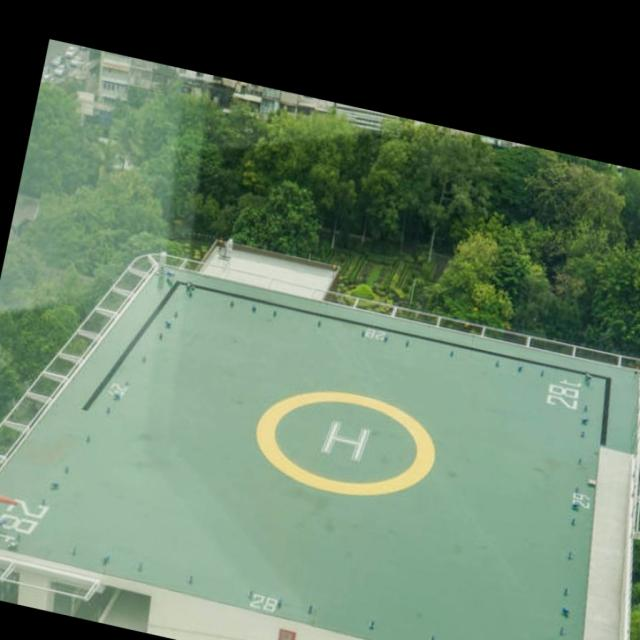helipad: (251, 385, 441, 500)
